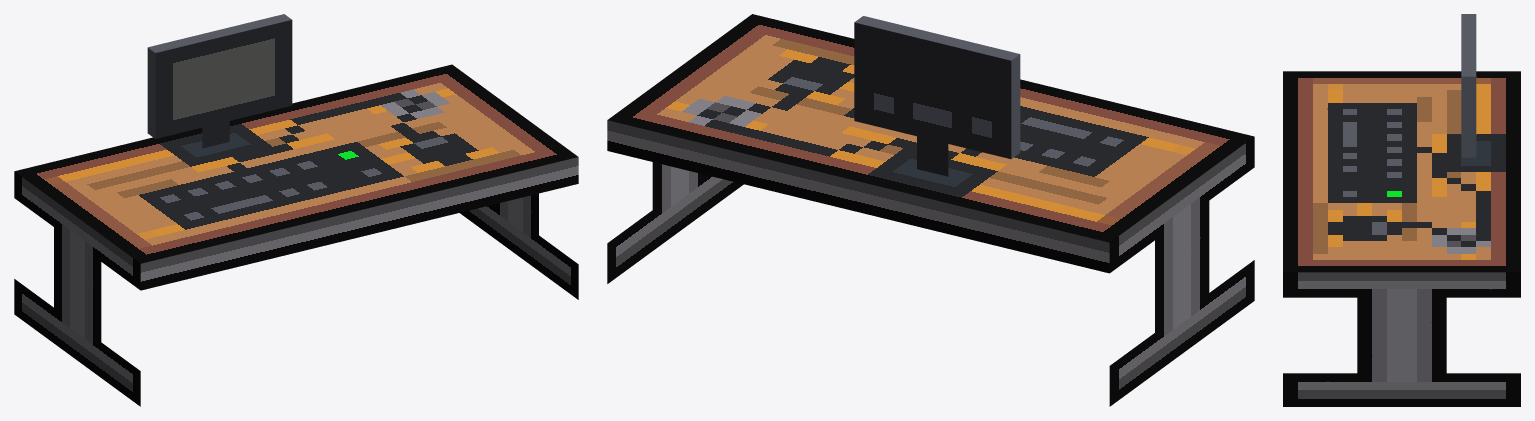
Rendered from desk.obj.
3 views of the same model, side by side, from view 1: azimuth 30°, elevation 25°; view 2: azimuth 150°, elevation 25°; view 3: azimuth 270°, elevation 25° (orthographic). The views are drawn at different scales.
Visible parts, largest first — view 1: Box, monitor; view 2: Box, monitor; view 3: Box, monitor.
Boxes of the visible parts, x1=… form: Box: x1=14, y1=64, x2=578, y2=406; monitor: x1=147, y1=14, x2=292, y2=148; Box: x1=607, y1=14, x2=1254, y2=406; monitor: x1=854, y1=16, x2=1020, y2=176; Box: x1=1283, y1=71, x2=1520, y2=406; monitor: x1=1461, y1=14, x2=1476, y2=157.
Size of the model in its own units: 32 by 18 by 16.
Materials: 2 (2 with a texture image).
